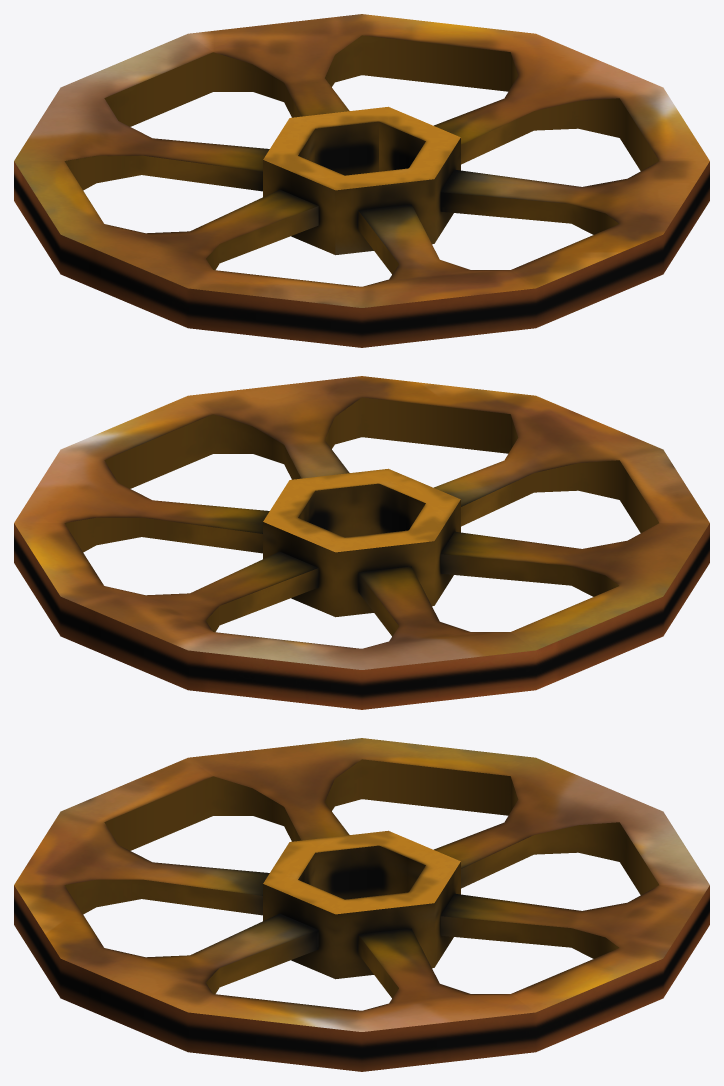
The model's file is MESH_AMB06_Gear.fbx.
The picture shows the model from 3 angles, top to bottom: view 1: azimuth 30°, elevation 25°; view 2: azimuth 150°, elevation 25°; view 3: azimuth 270°, elevation 25°; orthographic projection.
Visible parts, largest first — view 1: polySurface138; view 2: polySurface138; view 3: polySurface138.
Boxes of the visible parts, x1,y1,x2,y2 form: polySurface138: (14,14,709,347); polySurface138: (14,376,709,709); polySurface138: (14,738,709,1071).
Bounding box in the file's own units: 2.04 × 0.2098 × 2.04.
